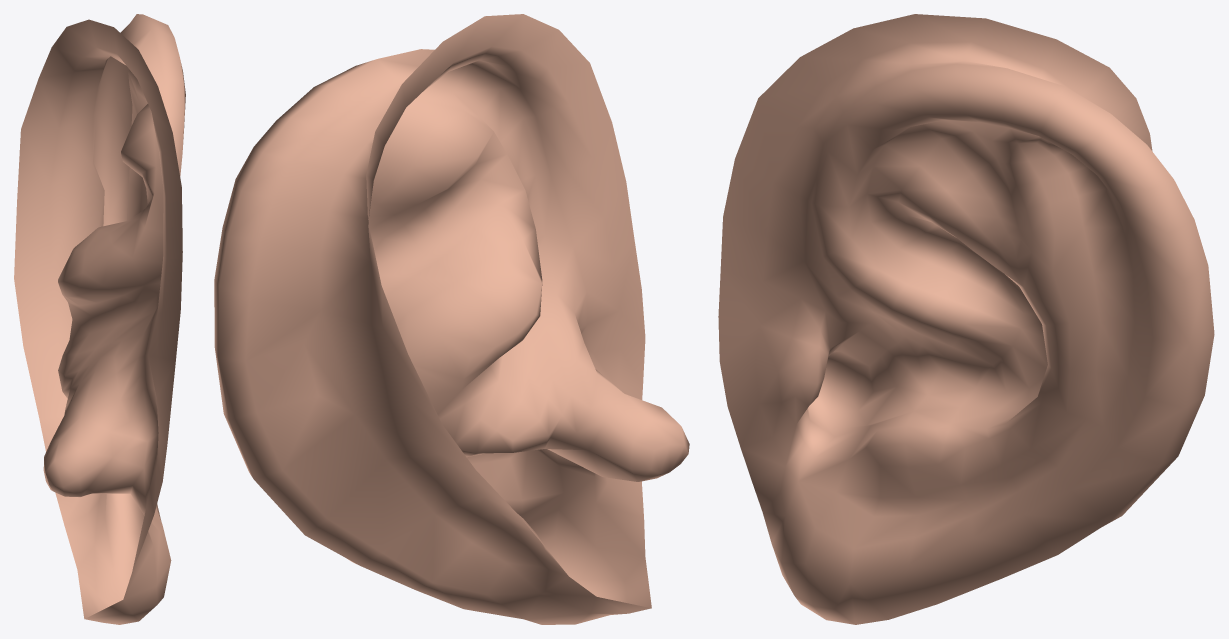
File: ear.fbx
The picture shows the model from 3 angles, left to right: view 1: azimuth 30°, elevation 25°; view 2: azimuth 150°, elevation 25°; view 3: azimuth 270°, elevation 25°; orthographic projection. The views are drawn at different scales.
Parts seen in each view (by area): view 1: HeadLP.001; view 2: HeadLP.001; view 3: HeadLP.001.
Part boxes in pixels (x1,y1,x2,y2): HeadLP.001: [14, 14, 185, 624]; HeadLP.001: [214, 14, 689, 624]; HeadLP.001: [718, 14, 1214, 624].
Size of the model in its own units: 0.241 by 0.4907 by 0.3539.
